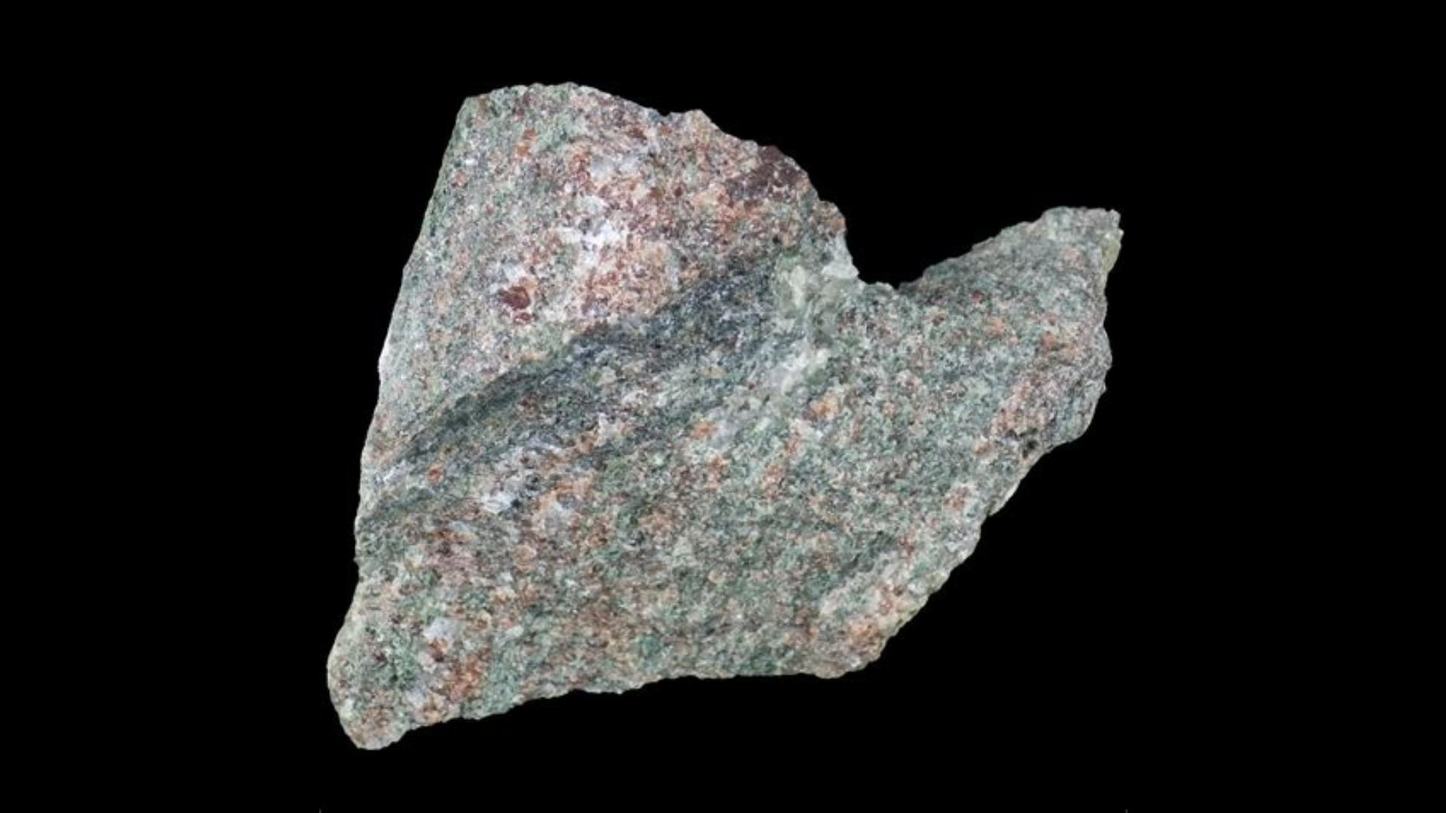rock: (327, 85, 1118, 745)
